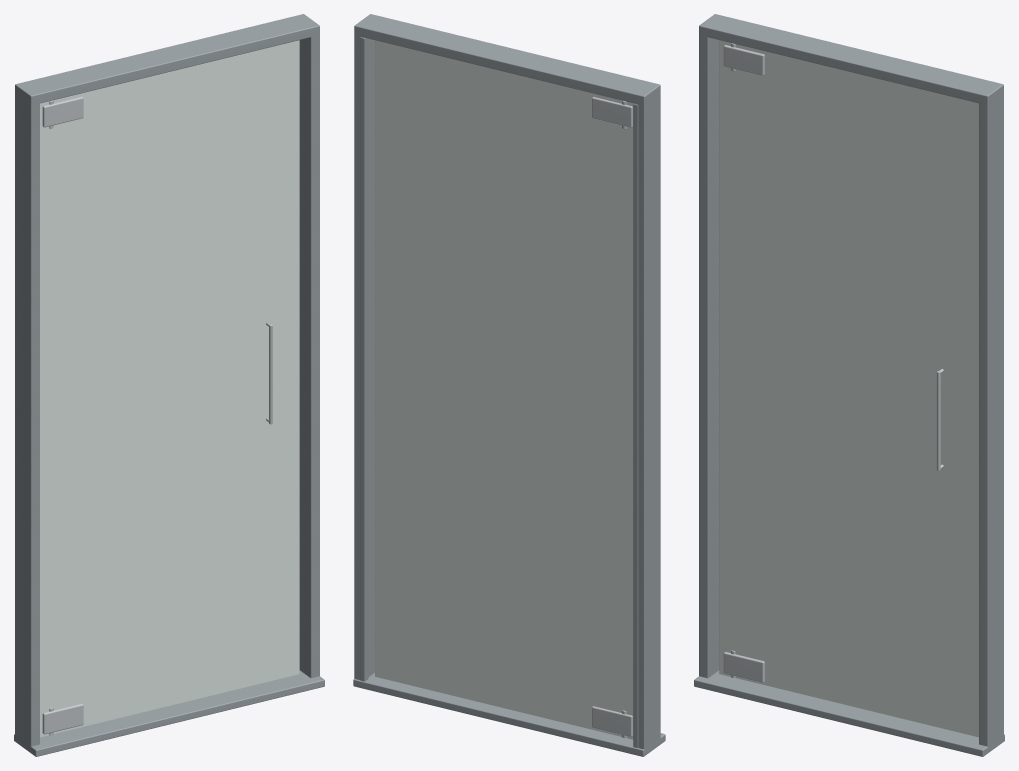
The model's file is glass_office_door.glb.
3 renders of one model, left to right at view 1: azimuth 30°, elevation 25°; view 2: azimuth 150°, elevation 25°; view 3: azimuth 330°, elevation 25°, orthographic.
Visible parts, largest first — view 1: Office | tempered glass leaf, Frame | jamb, Frame | jamb.001, Frame | header, Frame | sill, Office | patch fitting, Office | patch fitting.001; view 2: Office | tempered glass leaf, Frame | jamb, Frame | jamb.001, Frame | header, Frame | door stop.001, Frame | sill, Frame | door stop, Office | patch fitting.001, Office | patch fitting; view 3: Office | tempered glass leaf, Frame | jamb.001, Frame | jamb, Frame | header, Frame | sill, Office | patch fitting.001, Office | patch fitting.
Part boxes in pixels (x1,y1,x2,y2): Office | tempered glass leaf: (40,40,299,737); Frame | jamb: (15,82,39,752); Frame | jamb.001: (299,16,319,678); Frame | header: (15,14,319,104); Frame | sill: (14,670,324,756); Office | patch fitting: (42,703,83,734); Office | patch fitting.001: (42,96,83,127); Office | tempered glass leaf: (375,40,633,739); Frame | jamb: (635,83,660,749); Frame | jamb.001: (354,14,374,679); Frame | header: (354,14,660,105); Frame | door stop.001: (360,37,368,681); Frame | sill: (353,673,665,756); Frame | door stop: (633,103,638,748); Office | patch fitting.001: (592,97,632,127); Office | patch fitting: (592,706,632,736); Office | tempered glass leaf: (719,40,978,737); Frame | jamb.001: (979,83,1003,747); Frame | jamb: (699,24,719,678); Frame | header: (699,14,1003,104); Frame | sill: (694,670,1004,756); Office | patch fitting.001: (723,45,764,75); Office | patch fitting: (723,652,764,682).
Size of the model in its own units: 1.01 by 2.19 by 0.134.
3 materials, 3 textured.
